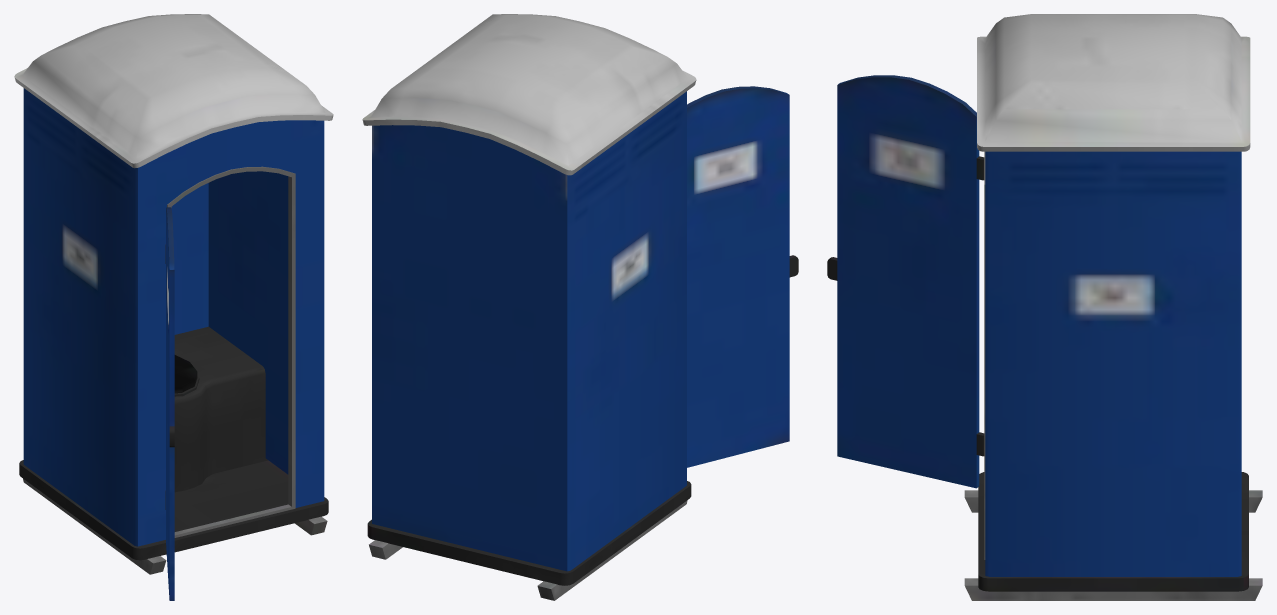
File: portaloo.glb
3 views of the same model, side by side, from view 1: azimuth 30°, elevation 25°; view 2: azimuth 150°, elevation 25°; view 3: azimuth 270°, elevation 25° (orthographic). The views are drawn at different scales.
Parts seen in each view (by area): view 1: Door; view 2: Door; view 3: Door.
Part boxes in pixels (bbox=[...]): Door: bbox=[14, 14, 333, 600]; Door: bbox=[362, 14, 798, 600]; Door: bbox=[827, 14, 1262, 600].
Bounding box in the file's own units: 1.43 × 2.71 × 2.07.
1 material, 1 textured.
